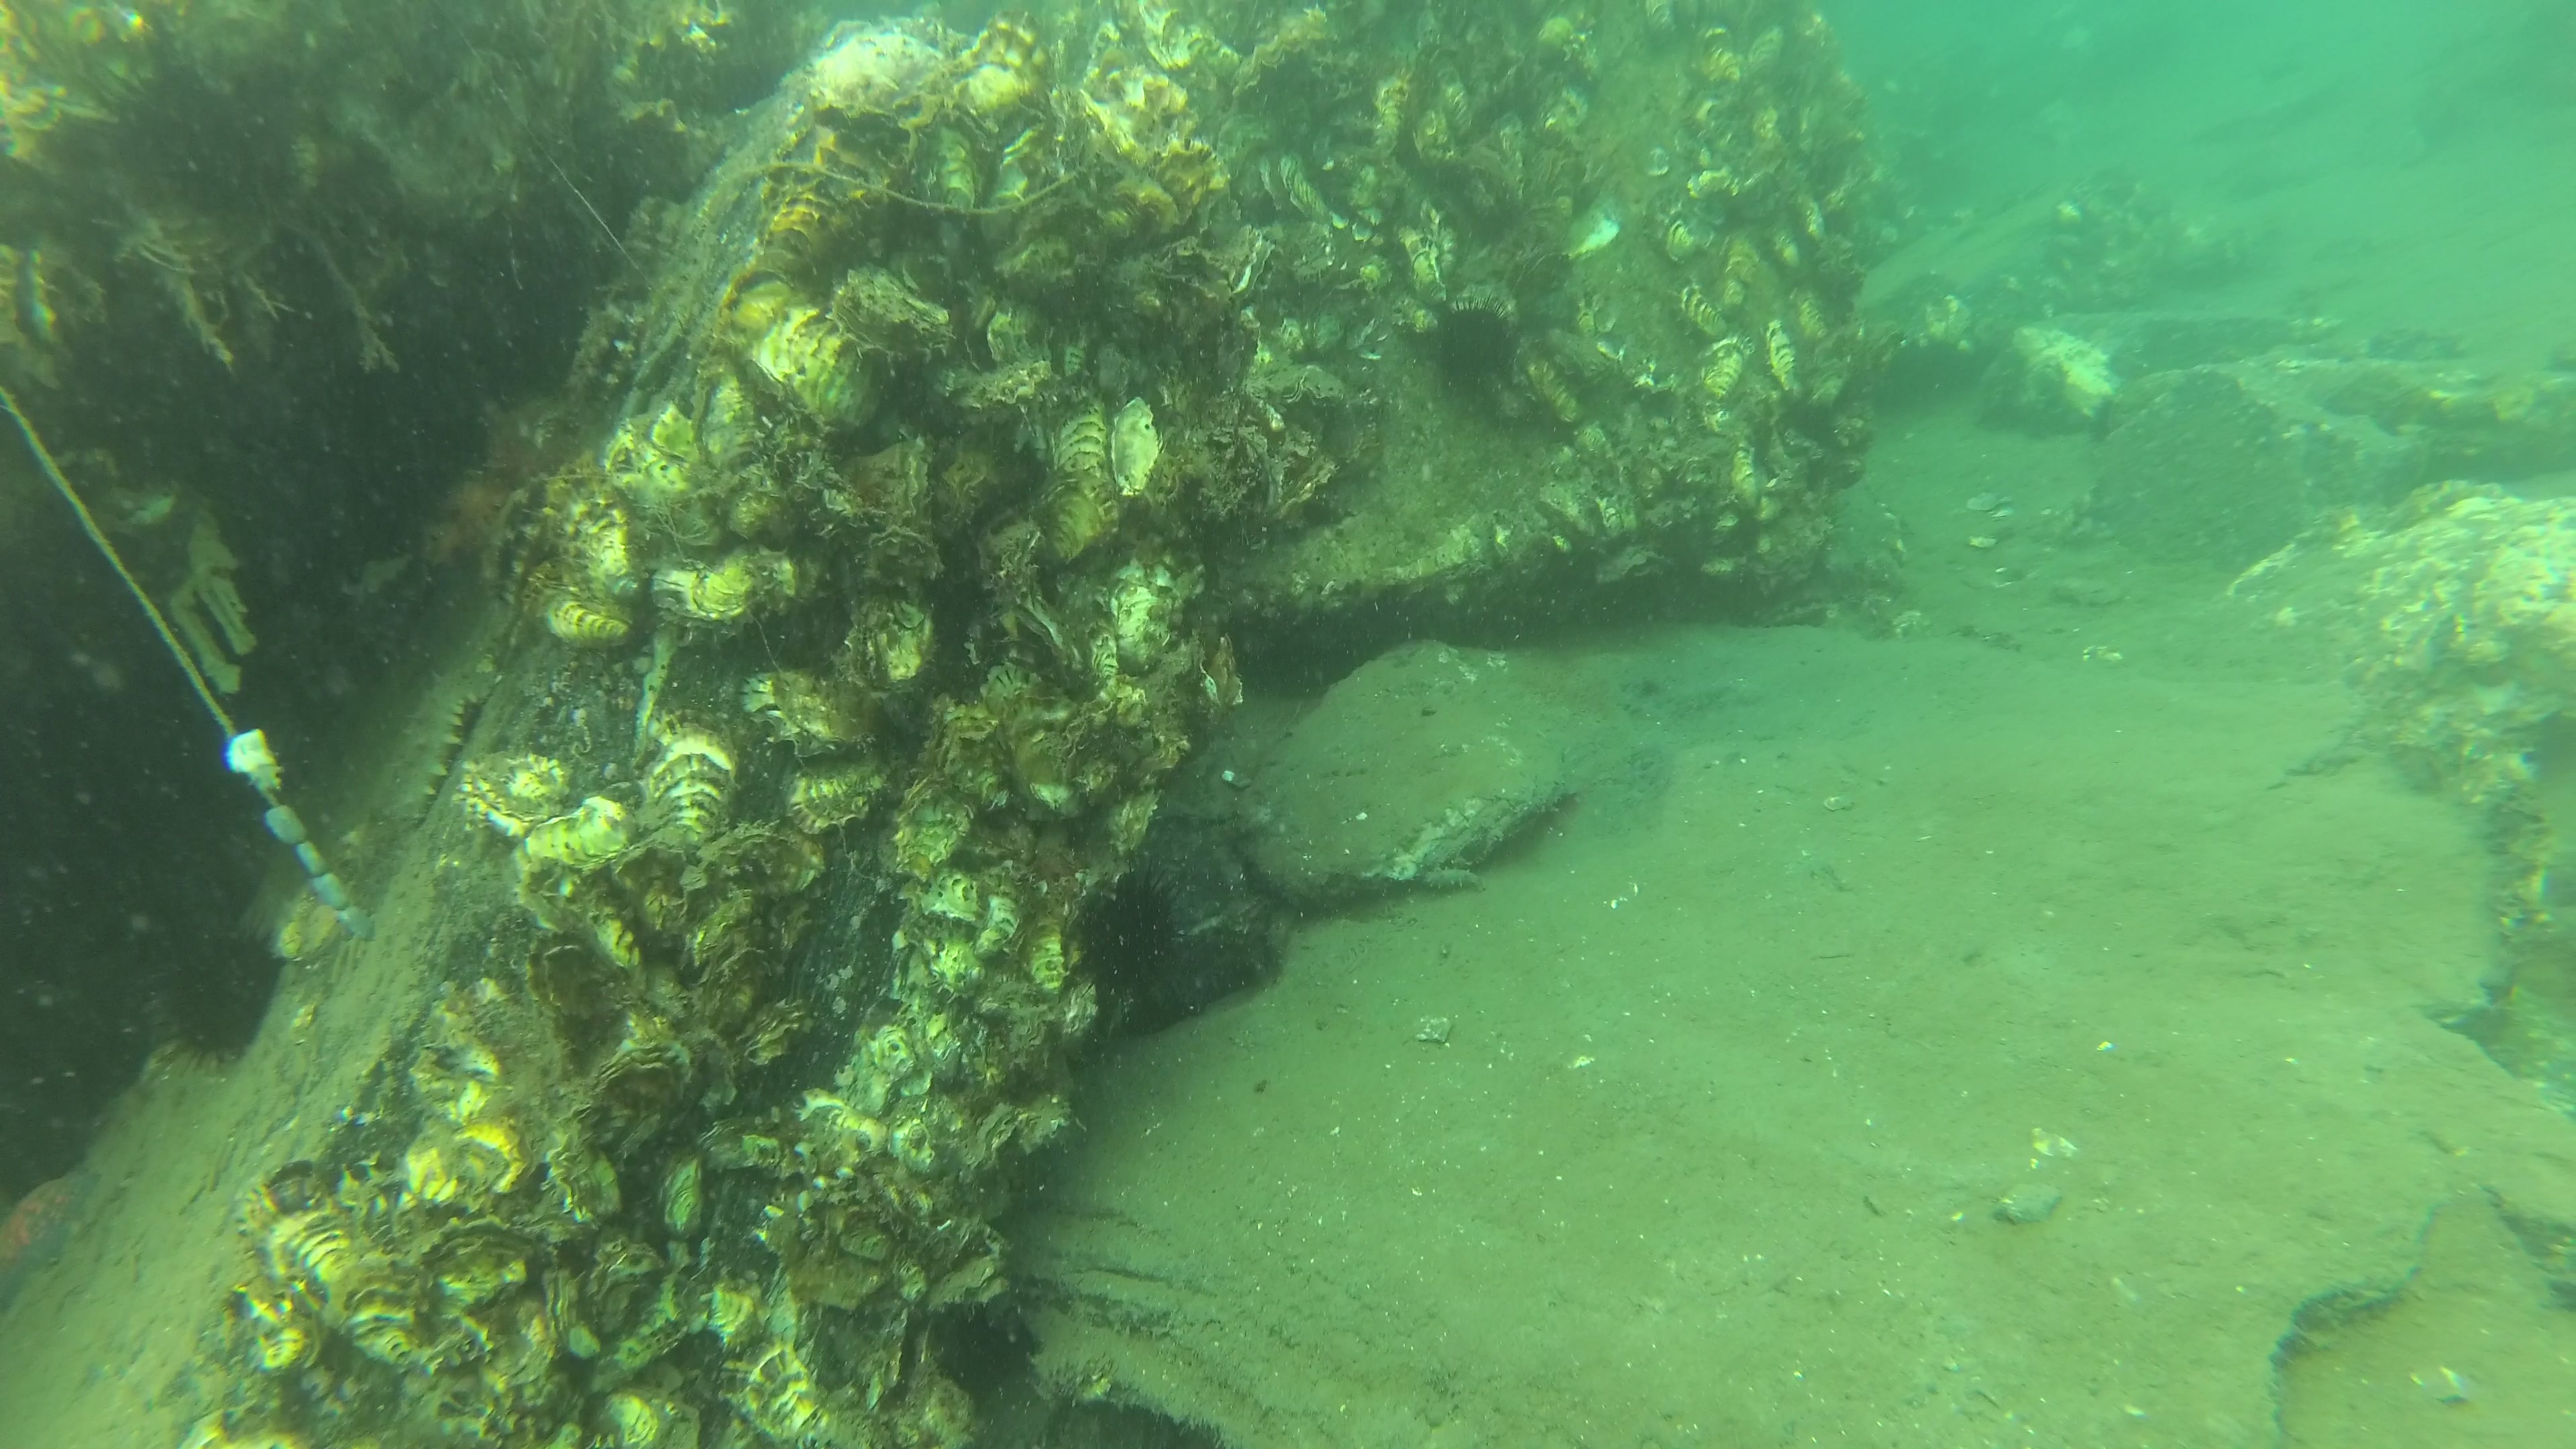echinus: (170, 927, 281, 1074), (1086, 879, 1194, 1001)
holothurian: (391, 669, 490, 819)
